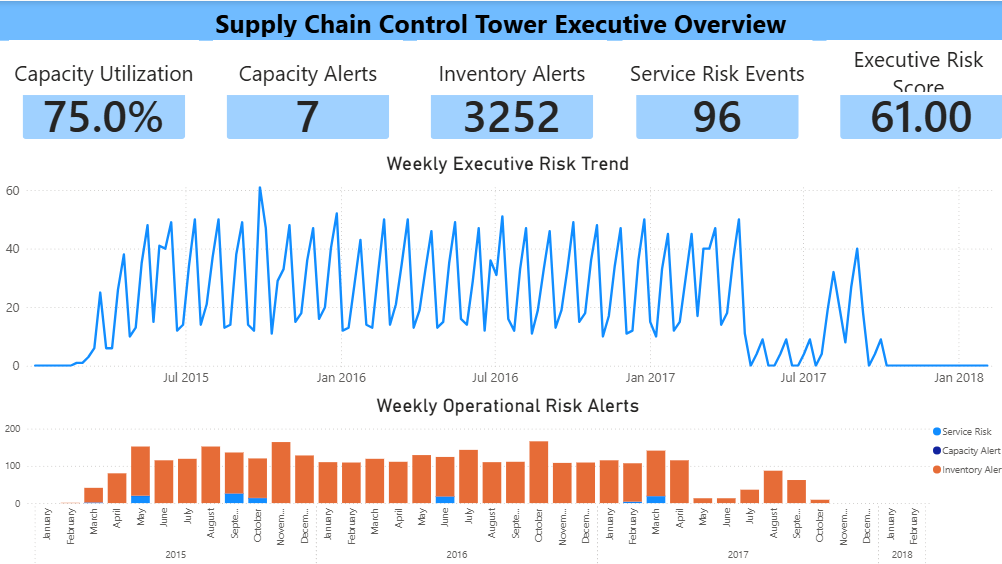

What the dashboard file says about the page in this screenshot:
{"tool":"powerbi","page":{"name":"Executive Summary","canvas":[1280,720],"ordinal":0},"visuals":[{"type":"textbox","box":[0,0,1279.5,50],"z":0},{"type":"cardVisual","fields":{"Data":["Avg(executive_dashboard_summary.Avg_Capacity_Utilization)"]},"box":[11.1,90.6,239.2,100],"z":1000,"group":"g1"},{"type":"cardVisual","fields":{"Data":["Sum(executive_dashboard_summary.Critical Capacity Alerts)"]},"box":[268.5,90.6,239.2,100],"z":1000,"group":"g2"},{"type":"cardVisual","fields":{"Data":["Sum(executive_dashboard_summary.Critical_Inventory_Alerts)"]},"box":[525.9,90.6,239.2,100],"z":1000,"group":"g5"},{"type":"cardVisual","fields":{"Data":["Sum(executive_dashboard_summary.High_Service_Risk_Events)"]},"box":[783.3,90.6,239.2,100],"z":1000,"group":"g4"},{"type":"cardVisual","fields":{"Data":["Avg(executive_dashboard_summary.Executive_Risk_Score)"]},"box":[1040.7,90.6,239.2,100],"z":1000,"group":"g3"},{"type":"lineChart","title":"Weekly Executive Risk Trend","fields":{"Y":["Sum(executive_dashboard_summary.Executive_Risk_Score)"],"Category":["executive_dashboard_summary.Order_Date.Variation.Date Hierarchy.Year","executive_dashboard_summary.Order_Date.Variation.Date Hierarchy.Month","executive_dashboard_summary.Order_Date.Variation.Date Hierarchy.Day"]},"box":[0,190.8,1279.5,304.4],"z":1000},{"type":"group","id":"g1","title":"Group 2","box":[11.1,49.5,239.2,140.8],"z":2000},{"type":"group","id":"g2","title":"Group 2","box":[268.5,49.5,239.2,140.8],"z":3000},{"type":"group","id":"g3","title":"Group 2","box":[1040.7,49.5,239.8,141.1],"z":4000},{"type":"group","id":"g4","title":"Group 2","box":[783.3,49.5,239.2,140.8],"z":5000},{"type":"group","id":"g5","title":"Group 2","box":[525.9,49.5,239.2,140.8],"z":6000},{"type":"textbox","box":[11.7,49.5,239.2,69.7],"z":7000,"group":"g1"},{"type":"textbox","box":[269.1,49.5,239.2,69.7],"z":7000,"group":"g2"},{"type":"textbox","box":[526.5,49.5,239.2,69.7],"z":7000,"group":"g5"},{"type":"textbox","box":[783.9,49.5,239.2,69.7],"z":7000,"group":"g4"},{"type":"textbox","box":[1041.3,49.5,239.2,69.7],"z":7000,"group":"g3"},{"type":"columnChart","title":"Weekly Operational Risk Alerts","fields":{"Category":["executive_dashboard_summary.Order_Date.Variation.Date Hierarchy.Year","executive_dashboard_summary.Order_Date.Variation.Date Hierarchy.Month","executive_dashboard_summary.Order_Date.Variation.Date Hierarchy.Day"],"Y":["Sum(executive_dashboard_summary.High_Service_Risk_Events)","Sum(executive_dashboard_summary.Critical Capacity Alerts)","Sum(executive_dashboard_summary.Critical_Inventory_Alerts)"]},"box":[0,495.1,1279.5,224.1],"z":7000}]}

Visuals, with their boxes in screenshot pixels (x1, y1, x2, y2), scaled from the page's 1280x720 canvas onto the 1002x564 screenshot:
textbox: (0, 0, 1001, 39)
cardVisual - Avg(executive_dashboard_summary.Avg_Capacity_Utilization): (9, 71, 196, 149)
cardVisual - Sum(executive_dashboard_summary.Critical Capacity Alerts): (210, 71, 397, 149)
cardVisual - Sum(executive_dashboard_summary.Critical_Inventory_Alerts): (412, 71, 599, 149)
cardVisual - Sum(executive_dashboard_summary.High_Service_Risk_Events): (613, 71, 800, 149)
cardVisual - Avg(executive_dashboard_summary.Executive_Risk_Score): (815, 71, 1001, 149)
"Weekly Executive Risk Trend" lineChart: (0, 149, 1001, 388)
"Group 2" group: (9, 39, 196, 149)
"Group 2" group: (210, 39, 397, 149)
"Group 2" group: (815, 39, 1001, 149)
"Group 2" group: (613, 39, 800, 149)
"Group 2" group: (412, 39, 599, 149)
textbox: (9, 39, 196, 93)
textbox: (211, 39, 398, 93)
textbox: (412, 39, 599, 93)
textbox: (614, 39, 801, 93)
textbox: (815, 39, 1001, 93)
"Weekly Operational Risk Alerts" columnChart: (0, 388, 1001, 563)
